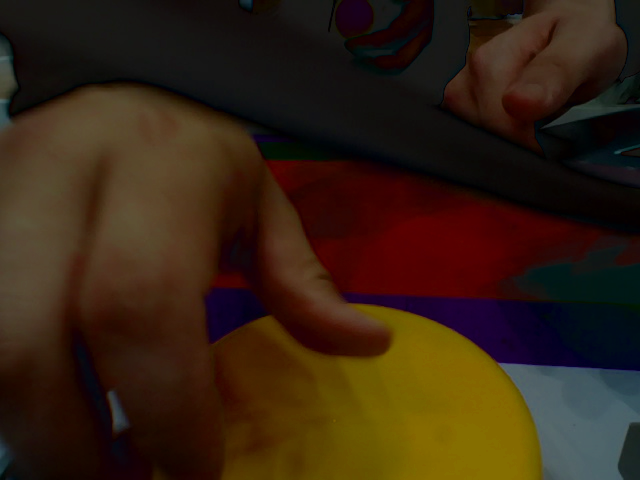kuang: (1, 120, 636, 373)
yellow: (141, 290, 544, 480)
